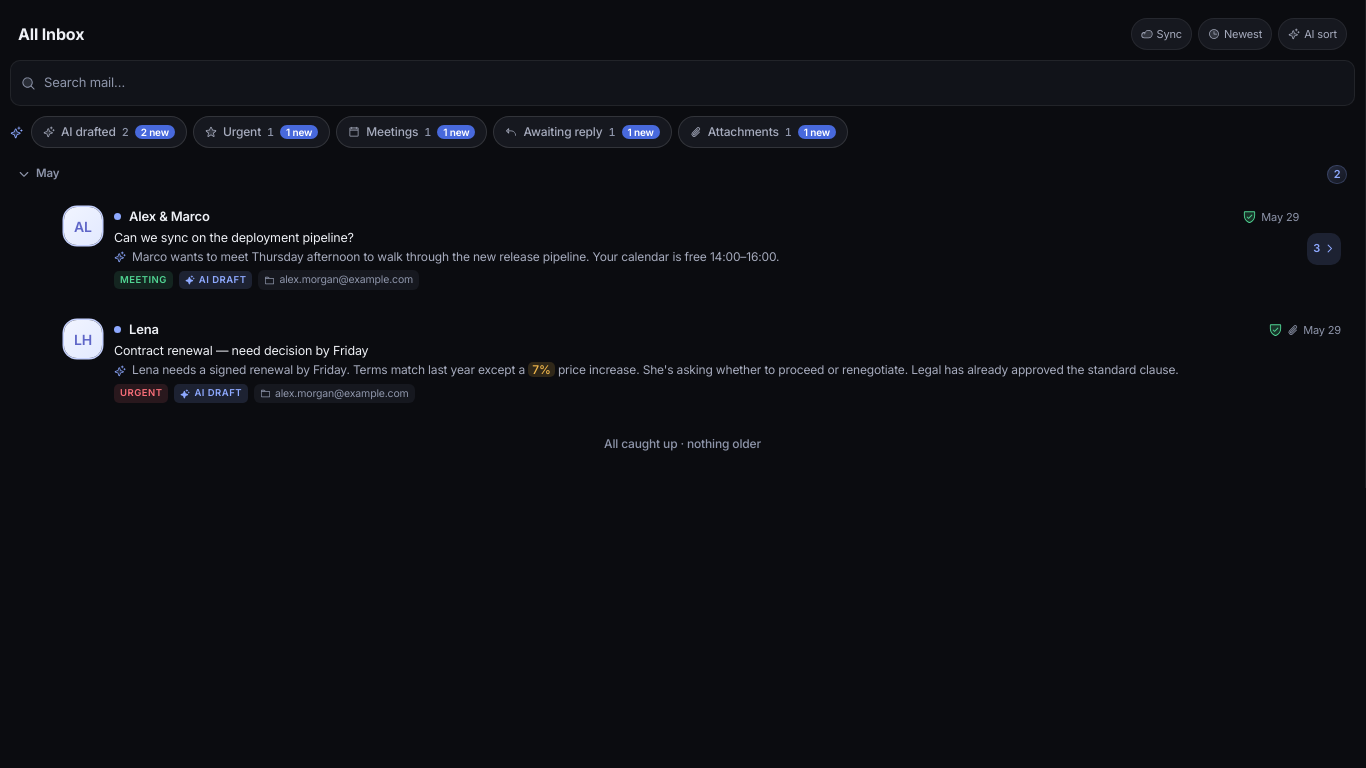
Test: Stream conversation selection › renders context actions as non-submitting buttons
This screenshot has width=1366, height=768.
Right-click the element with class "mail" that starts with "Alex & Marco".
right_click(682, 249)  # box [10,194,1355,303]
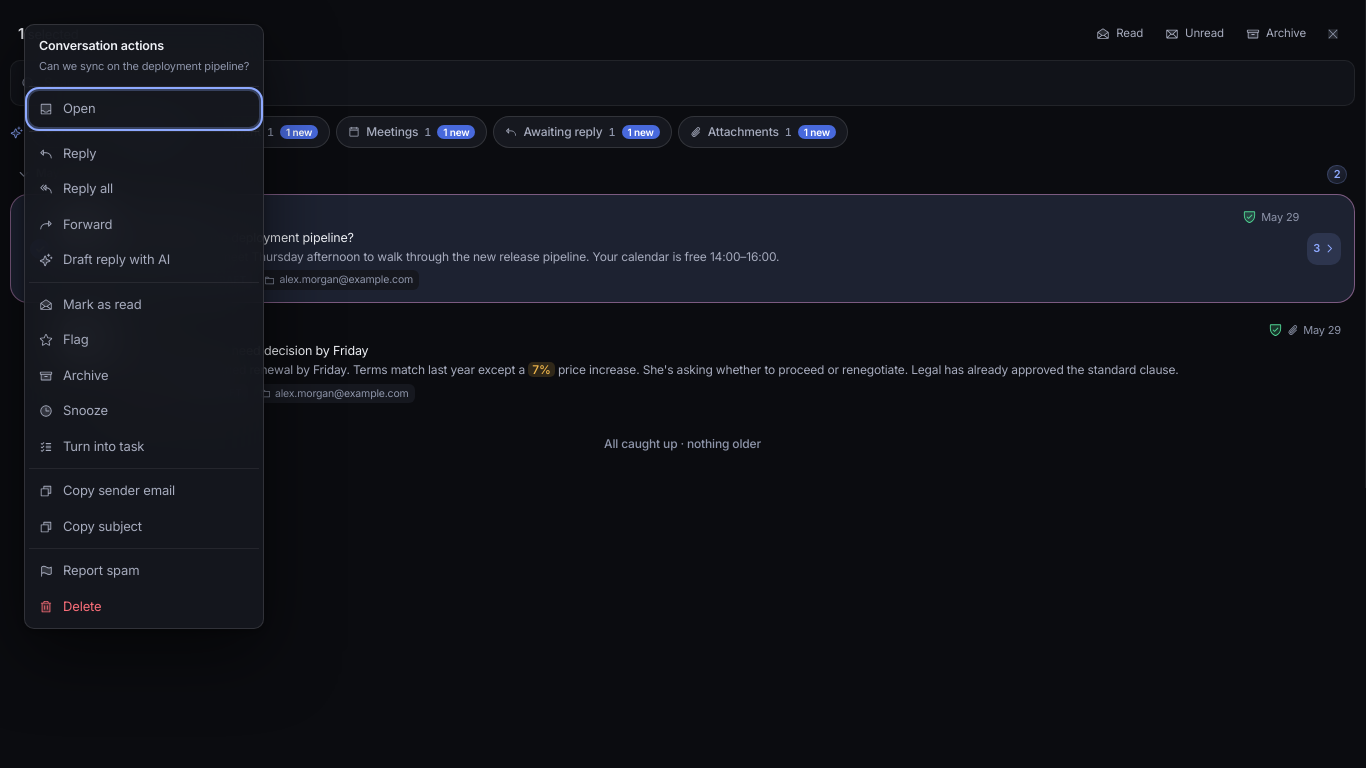
Expected: the menu item "Mark as read" is shown, [29,287,259,322]
